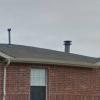Chimney: (57, 32, 78, 56)
